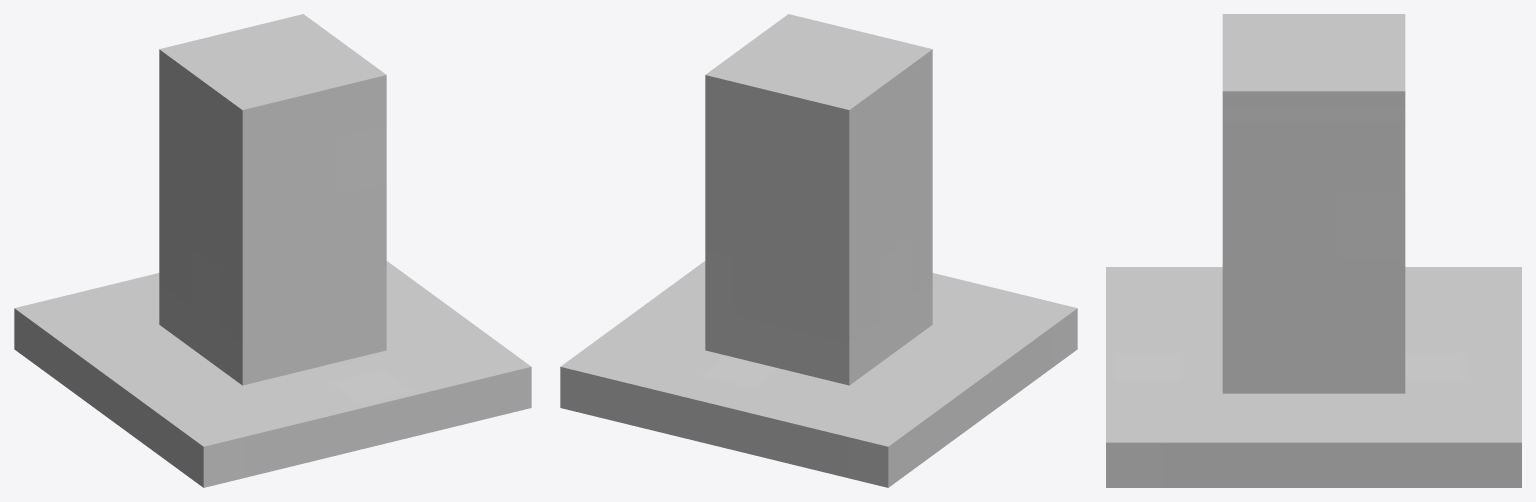
File: KitchenExhaust07.glb
3 renders of one model, left to right at view 1: azimuth 30°, elevation 25°; view 2: azimuth 150°, elevation 25°; view 3: azimuth 270°, elevation 25°, orthographic. The views are drawn at different scales.
Parts seen in each view (by area): view 1: KitchenExhaust07_model; view 2: KitchenExhaust07_model; view 3: KitchenExhaust07_model.
Part boxes in pixels (x1,y1,x2,y2): KitchenExhaust07_model: (14,14,531,487); KitchenExhaust07_model: (560,14,1077,487); KitchenExhaust07_model: (1106,14,1521,487).
Bounding box in the file's own units: 1.18 × 1.09 × 1.18.
Materials: 1 (1 with a texture image).
